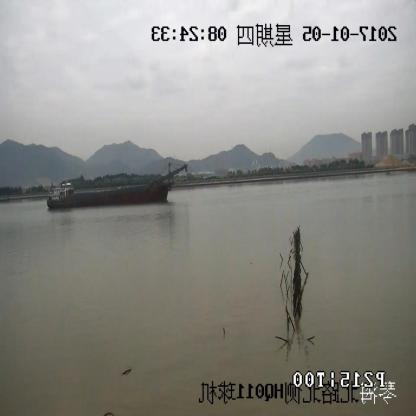Bulk Carrier: (47, 165, 186, 210)
